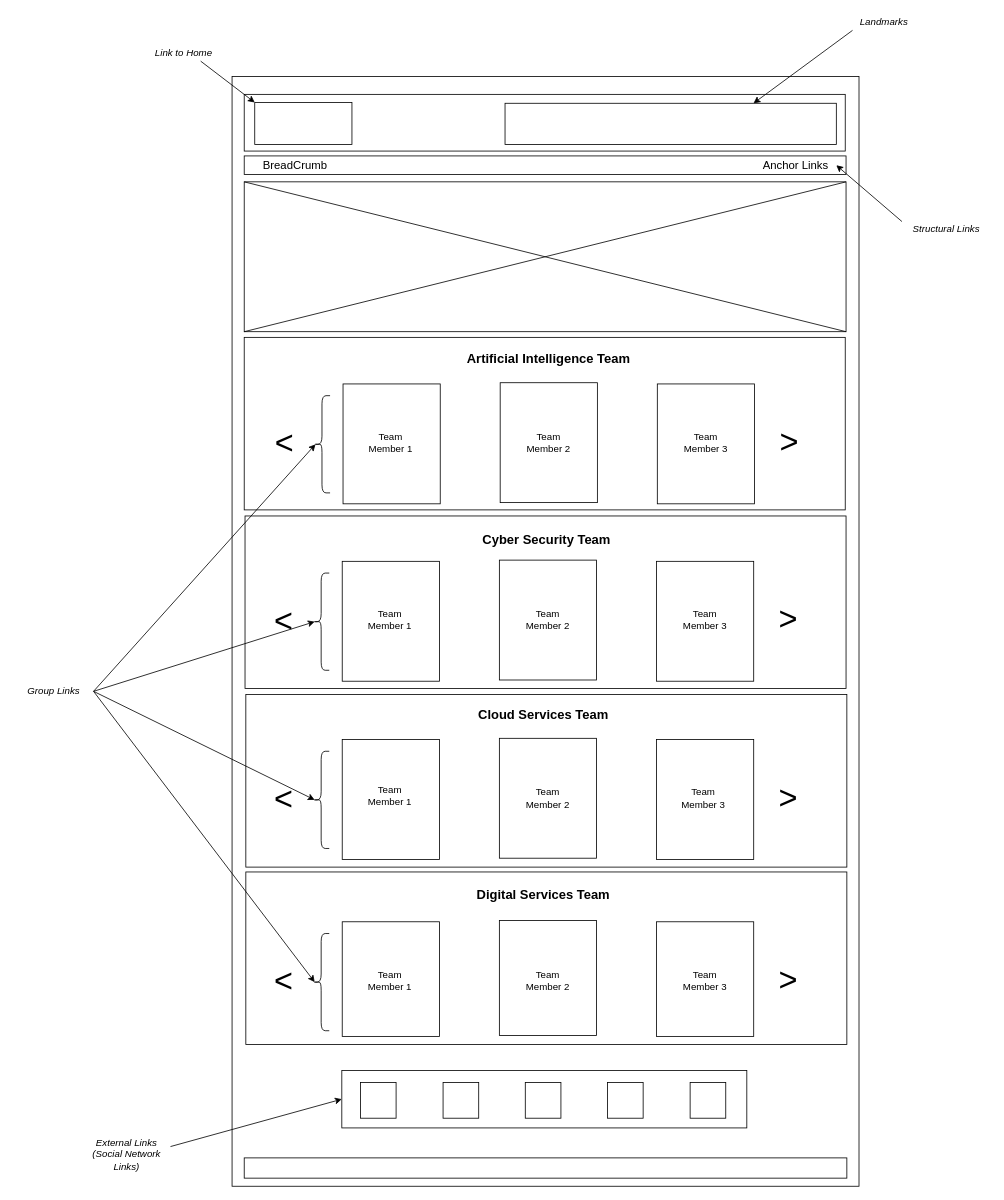
The diagram is 1004 pixels wide and 1200 high, and some of its shapes have lost their labels. The shapes that lost their labels are listed below. From the top down, each one's box as (x1, y1, x2, y2) in pixels, then its label:
(254, 102, 352, 145): LOGO
(504, 102, 836, 145): About Us Areas Services Industries Our Team Contact Us
(243, 181, 846, 332): OUR TEAM
(243, 1157, 847, 1178): Footer
